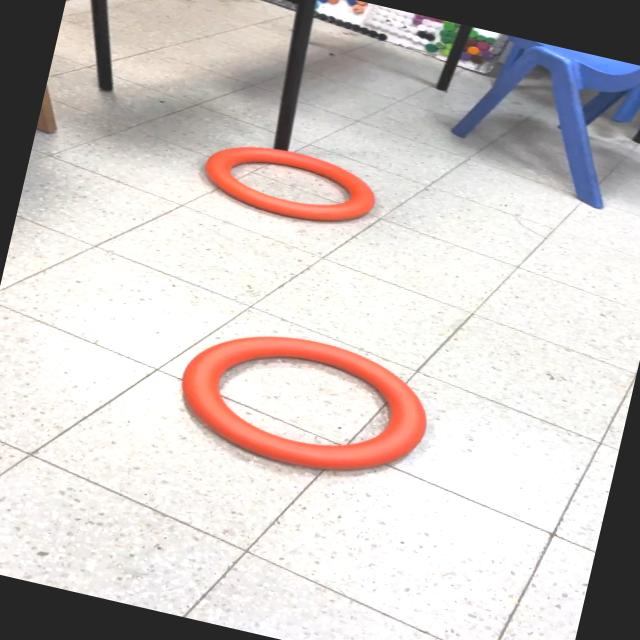note: (165, 312, 442, 494), (194, 130, 384, 238)
